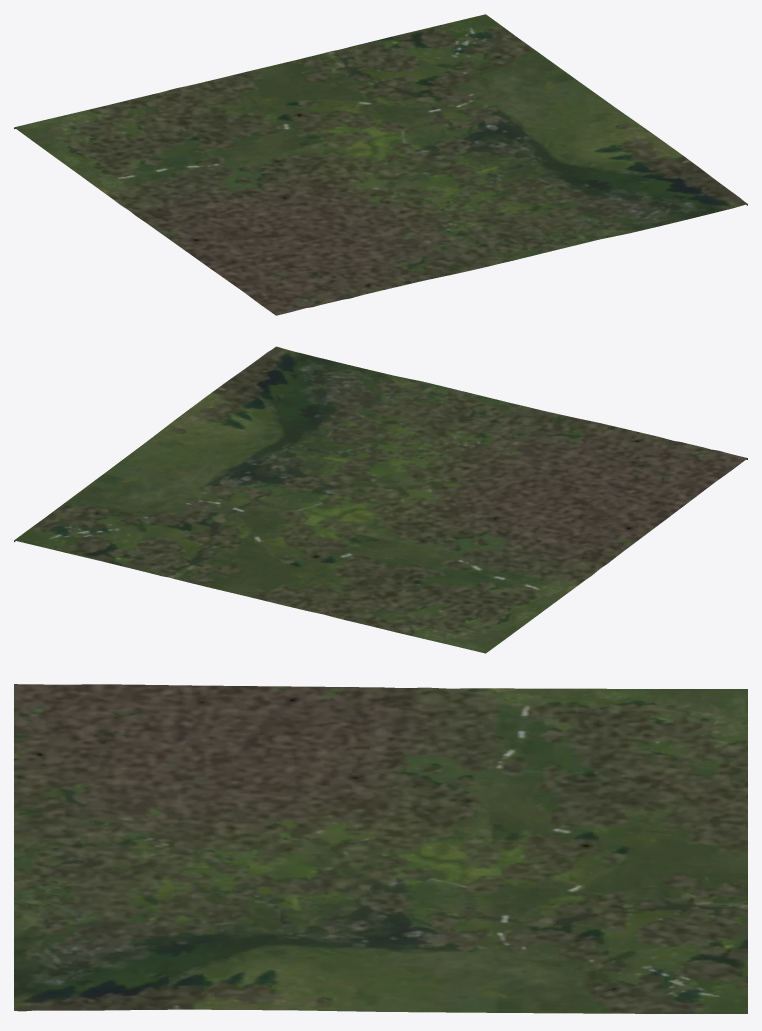
The picture shows the model from 3 angles, top to bottom: view 1: azimuth 30°, elevation 25°; view 2: azimuth 150°, elevation 25°; view 3: azimuth 270°, elevation 25°; orthographic projection. The views are drawn at different scales.
Bounding box in the file's own units: 250 × 3.97 × 241.
Materials: 1 (1 with a texture image).
